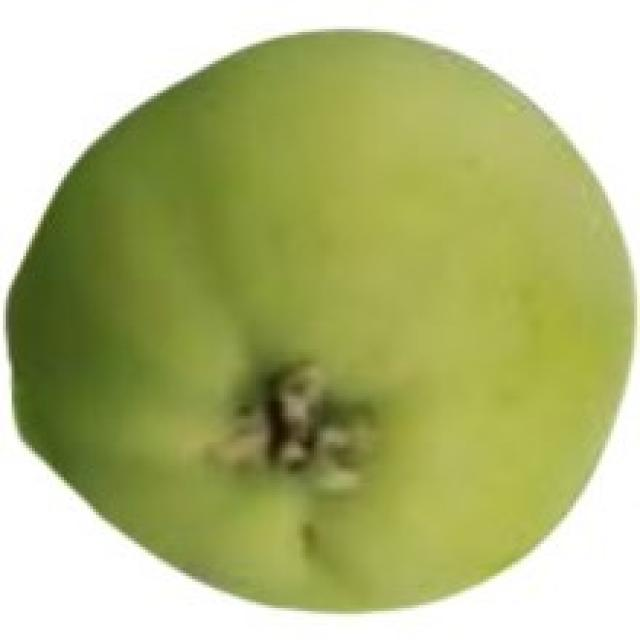50-_ripeness: (6, 40, 640, 608)
